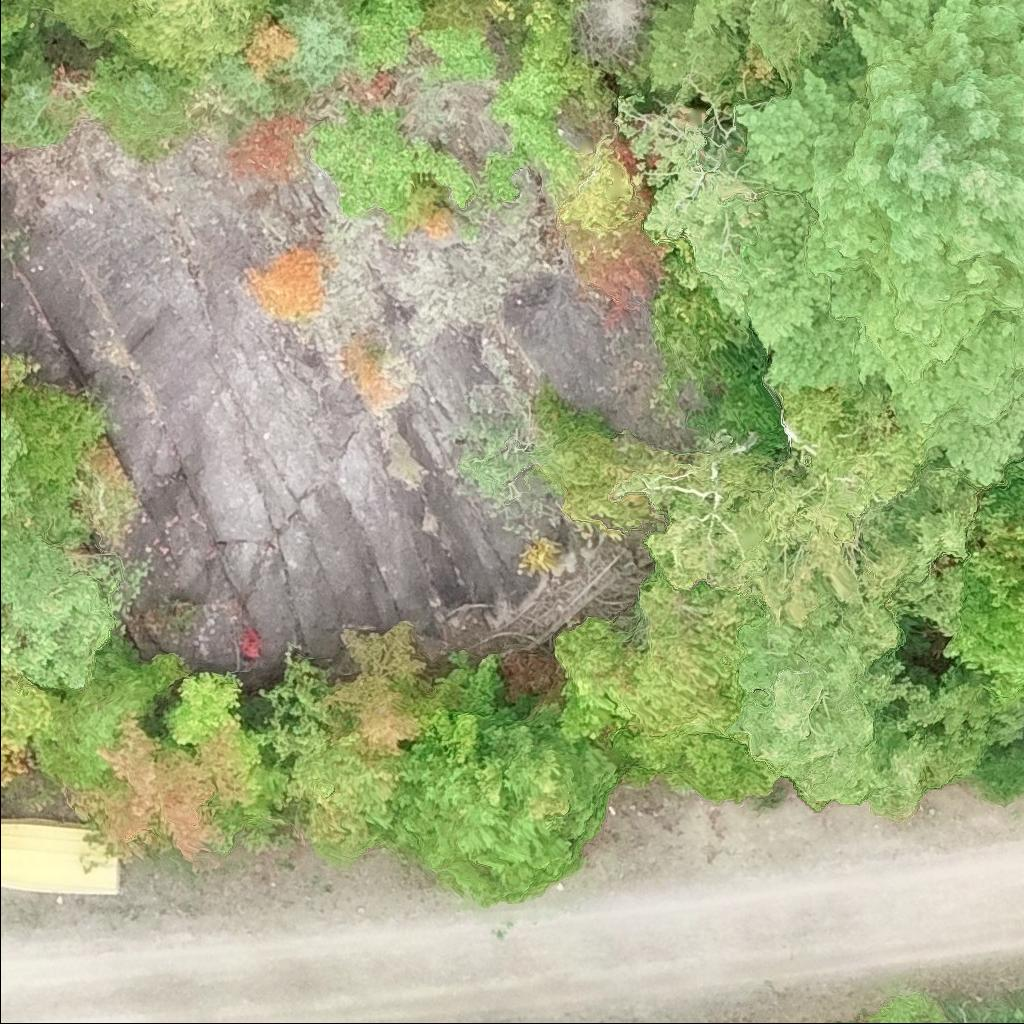crown: (731, 0, 1023, 489), (612, 388, 983, 657), (730, 584, 936, 818), (393, 700, 622, 903), (550, 579, 765, 775), (0, 407, 127, 690), (61, 718, 249, 866), (646, 0, 874, 96), (106, 0, 279, 85), (536, 429, 676, 522), (959, 481, 1023, 679), (0, 378, 103, 485), (163, 674, 259, 783), (275, 0, 355, 96), (102, 53, 189, 138), (0, 43, 57, 148), (578, 0, 653, 68), (251, 244, 323, 312), (43, 0, 125, 49), (0, 347, 46, 398), (525, 0, 579, 32), (489, 0, 518, 22), (423, 0, 431, 2)
